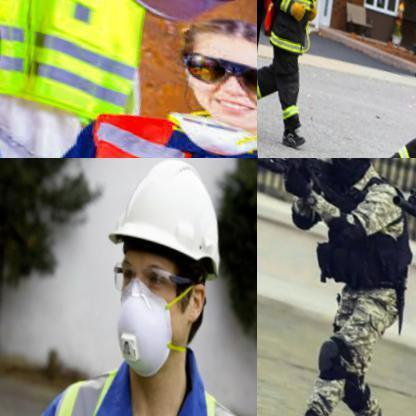vest: (0, 0, 166, 138), (39, 63, 256, 157), (19, 335, 256, 415), (299, 158, 415, 296), (257, 0, 330, 62)
